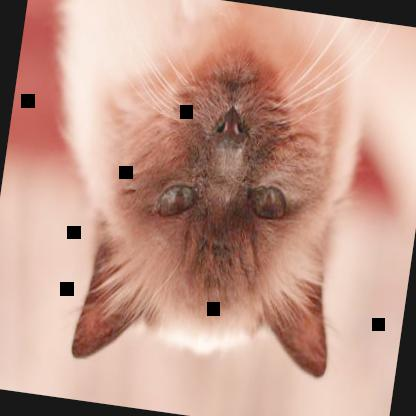cat: (0, 0, 376, 395)
